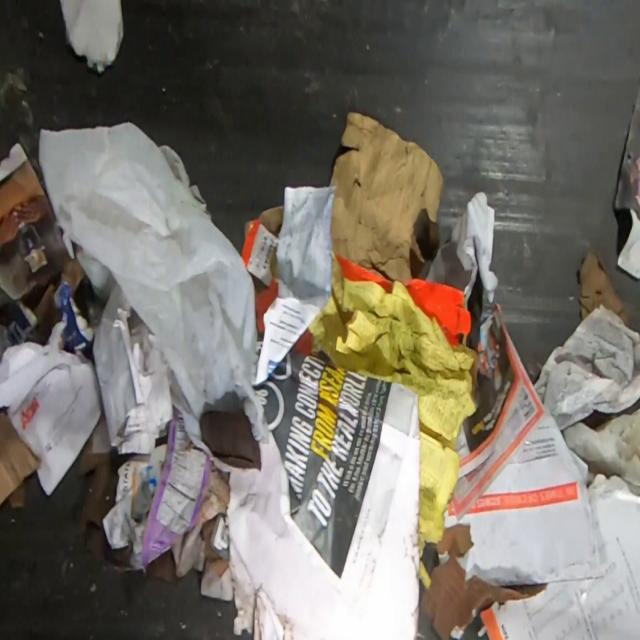cardboard: (328, 110, 445, 281), (101, 404, 211, 572), (0, 141, 72, 302), (240, 203, 285, 334), (399, 279, 473, 349), (59, 0, 124, 75), (0, 409, 41, 511), (334, 253, 395, 293), (293, 328, 313, 358)
soft_plastic: (38, 120, 270, 460)
